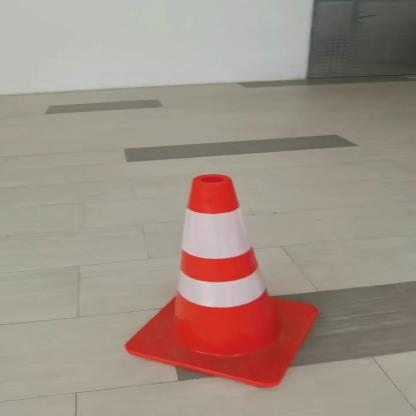cone: (108, 159, 334, 395)
